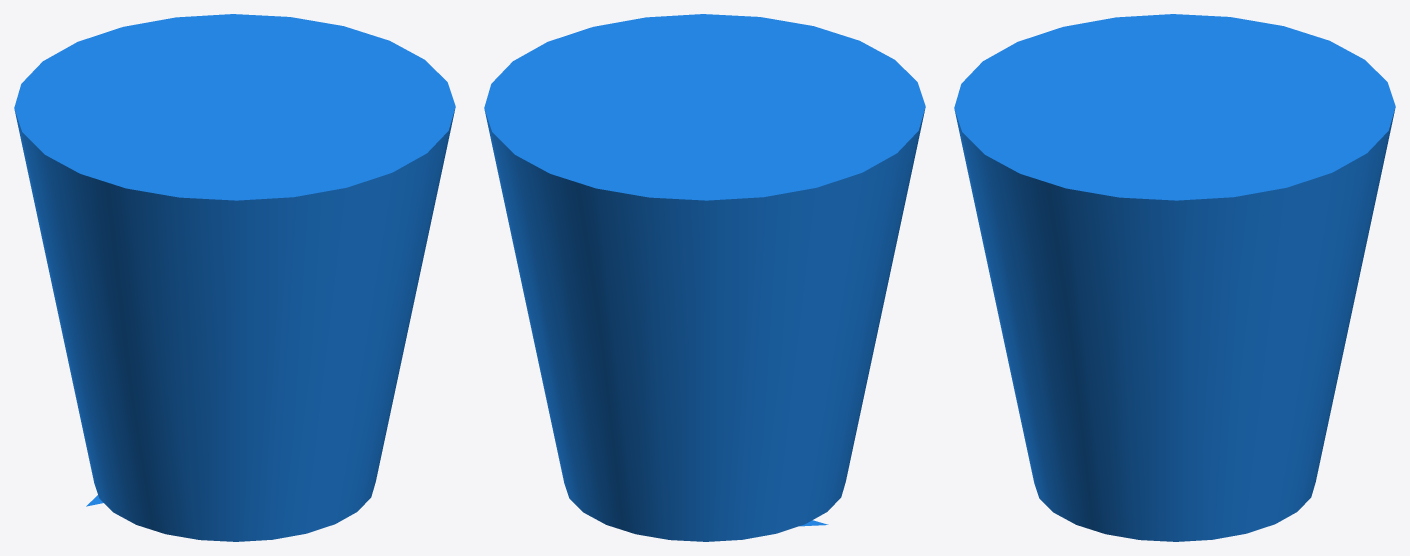
Rendered from original-13.obj.
3 renders of one model, left to right at view 1: azimuth 30°, elevation 25°; view 2: azimuth 150°, elevation 25°; view 3: azimuth 270°, elevation 25°, orthographic.
Visible parts, largest first — view 1: Group8/mesh46/mesh46-geometry#mesh46-geometry; view 2: Group8/mesh46/mesh46-geometry#mesh46-geometry; view 3: Group8/mesh46/mesh46-geometry#mesh46-geometry.
Boxes of the visible parts, x1,y1,x2,y2 form: Group8/mesh46/mesh46-geometry#mesh46-geometry: [14, 14, 455, 541]; Group8/mesh46/mesh46-geometry#mesh46-geometry: [484, 14, 925, 541]; Group8/mesh46/mesh46-geometry#mesh46-geometry: [954, 14, 1395, 541].
Size of the model in its own units: 0.0287 by 0.0269 by 0.0287.
